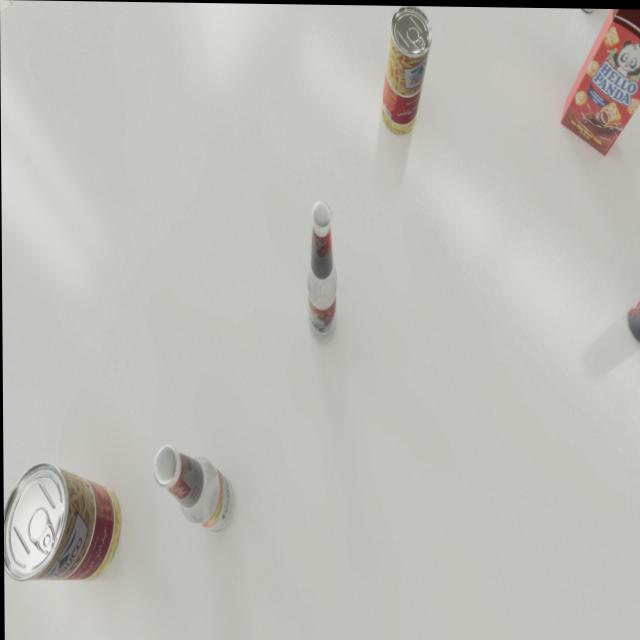Bottle: (153, 444, 235, 534), (305, 200, 338, 344)
Potato_sticks: (3, 461, 120, 582), (380, 5, 433, 135)
